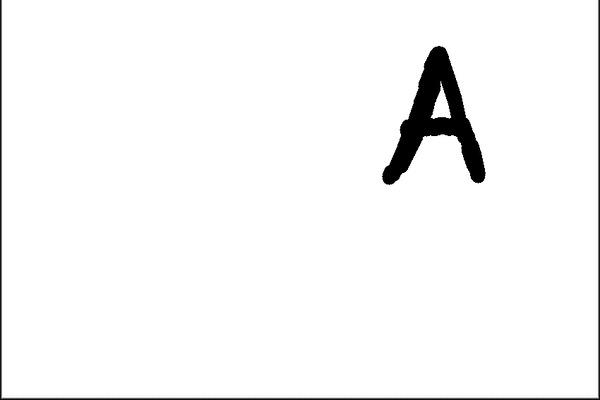A: (365, 39, 492, 189)
